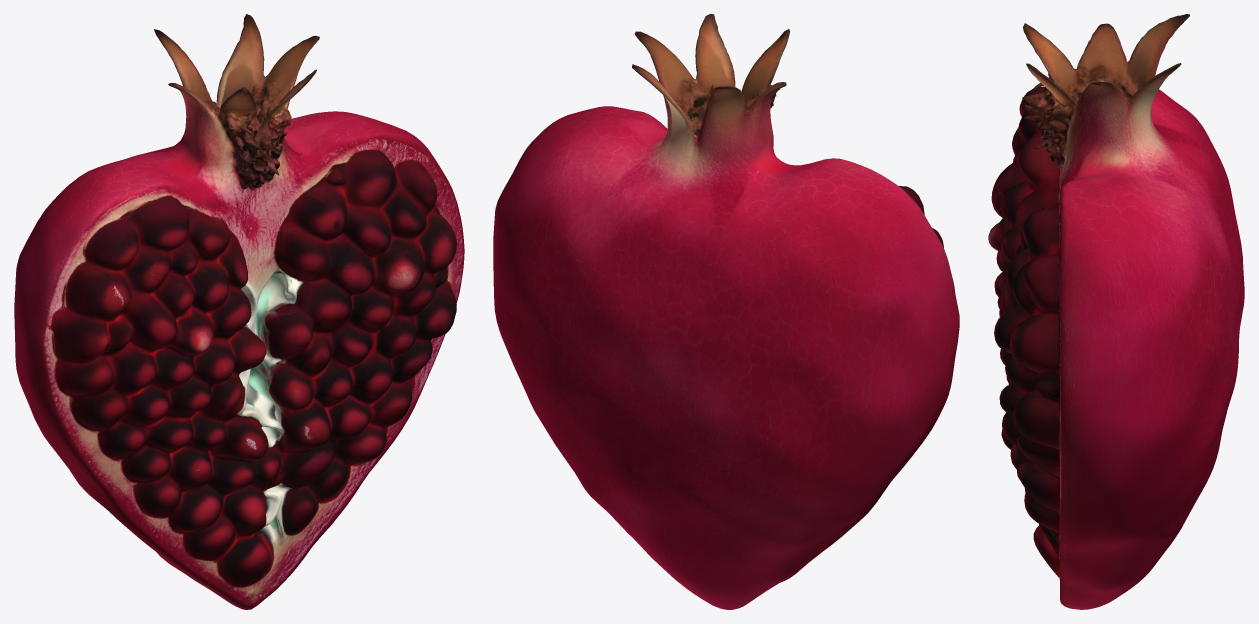
The model's file is pomegranate_59701679.glb.
3 views of the same model, side by side, from view 1: azimuth 30°, elevation 25°; view 2: azimuth 150°, elevation 25°; view 3: azimuth 270°, elevation 25° (orthographic). The views are drawn at different scales.
Size of the model in its own units: 1.57 by 1.91 by 0.772.
Materials: 1 (1 with a texture image).
